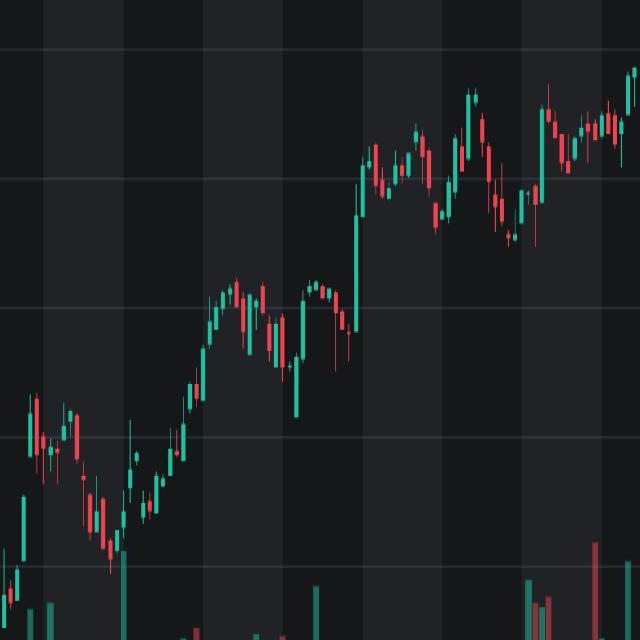Resistance-Emerging: (347, 31, 640, 282)
Resistance-breakout: (204, 70, 441, 422)
